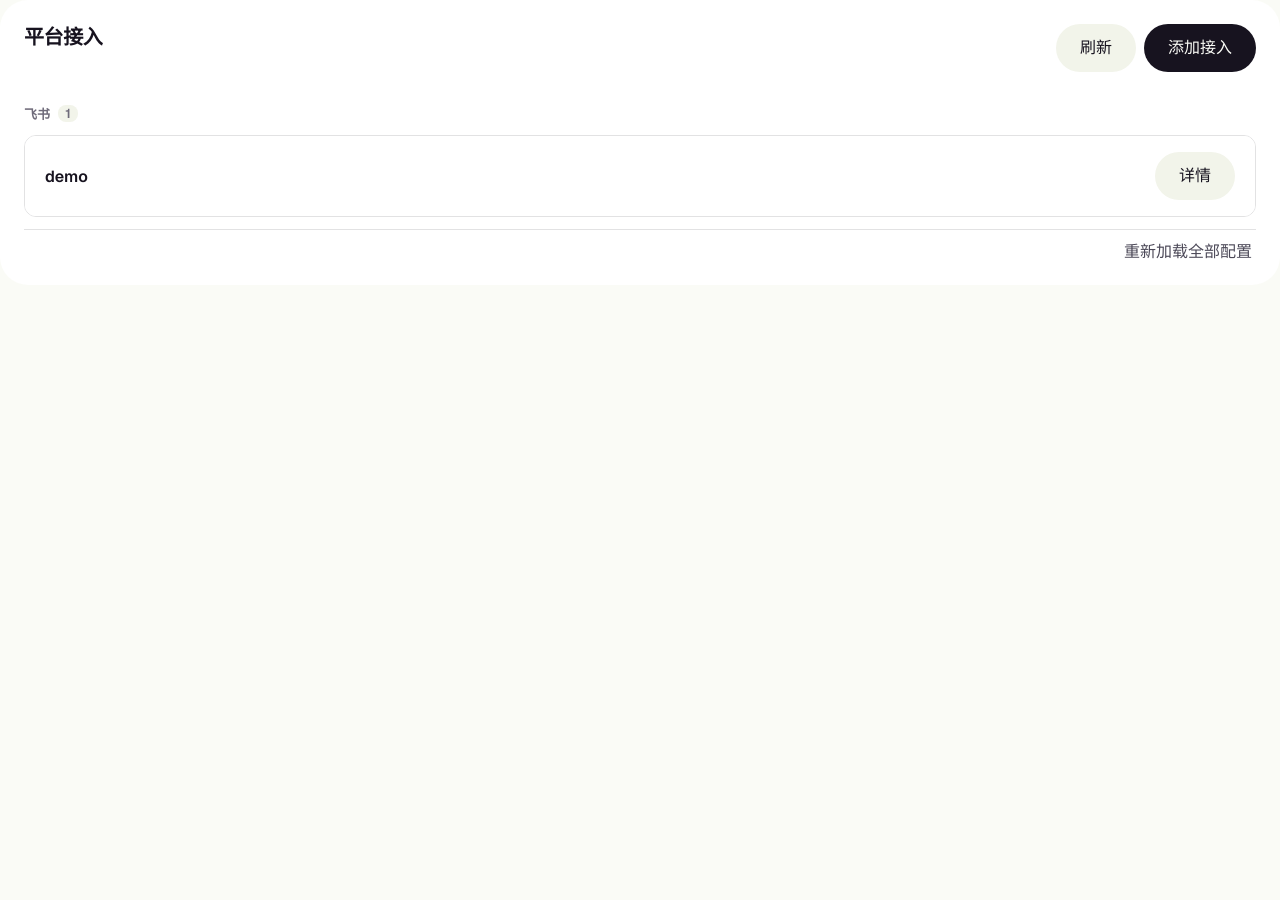
it: sends only the preview operation ID and confirms deletion from a new list read
Expected: the text "demo" is shown, [45,166,88,186]
Click the button "详情": (1195, 176) [1155,152,1235,200]
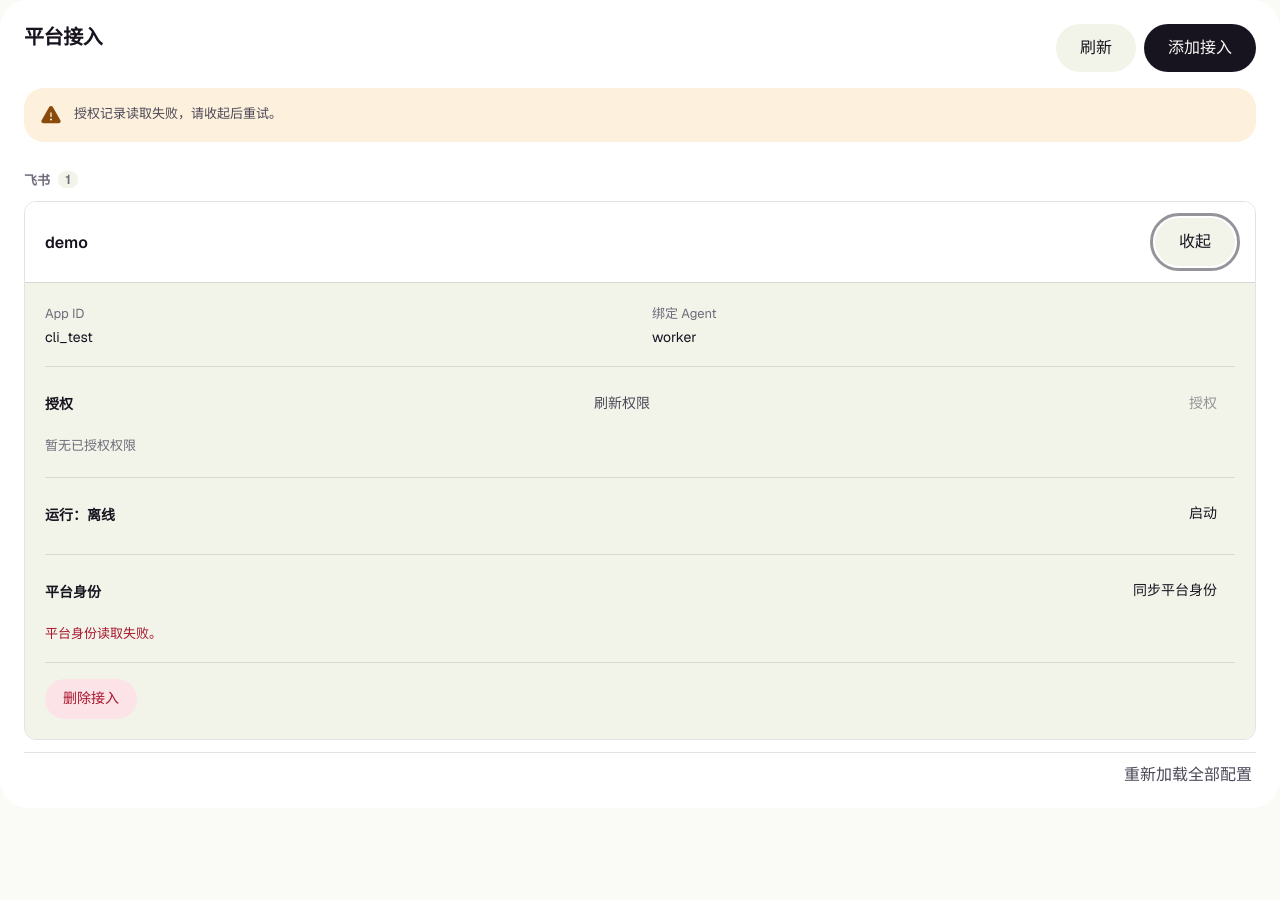
Click the button "删除接入": (91, 699) [45,679,137,719]
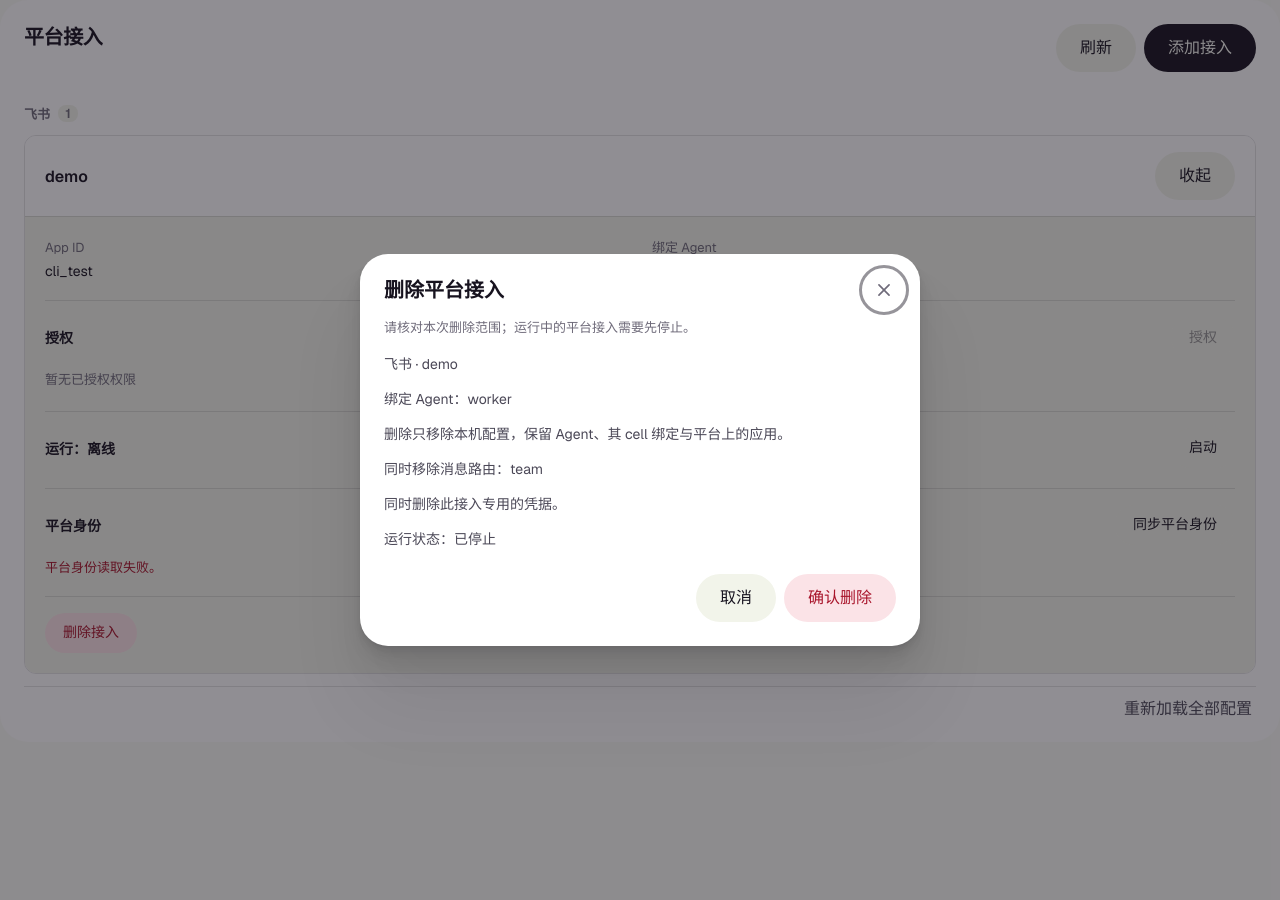
Expected: the text "绑定 Agent：worker" is shown, [384,390,512,408]
Expected: the text "同时移除消息路由：team" is shown, [384,460,543,478]
Click the button "确认删除": (840, 598) [784,574,896,622]
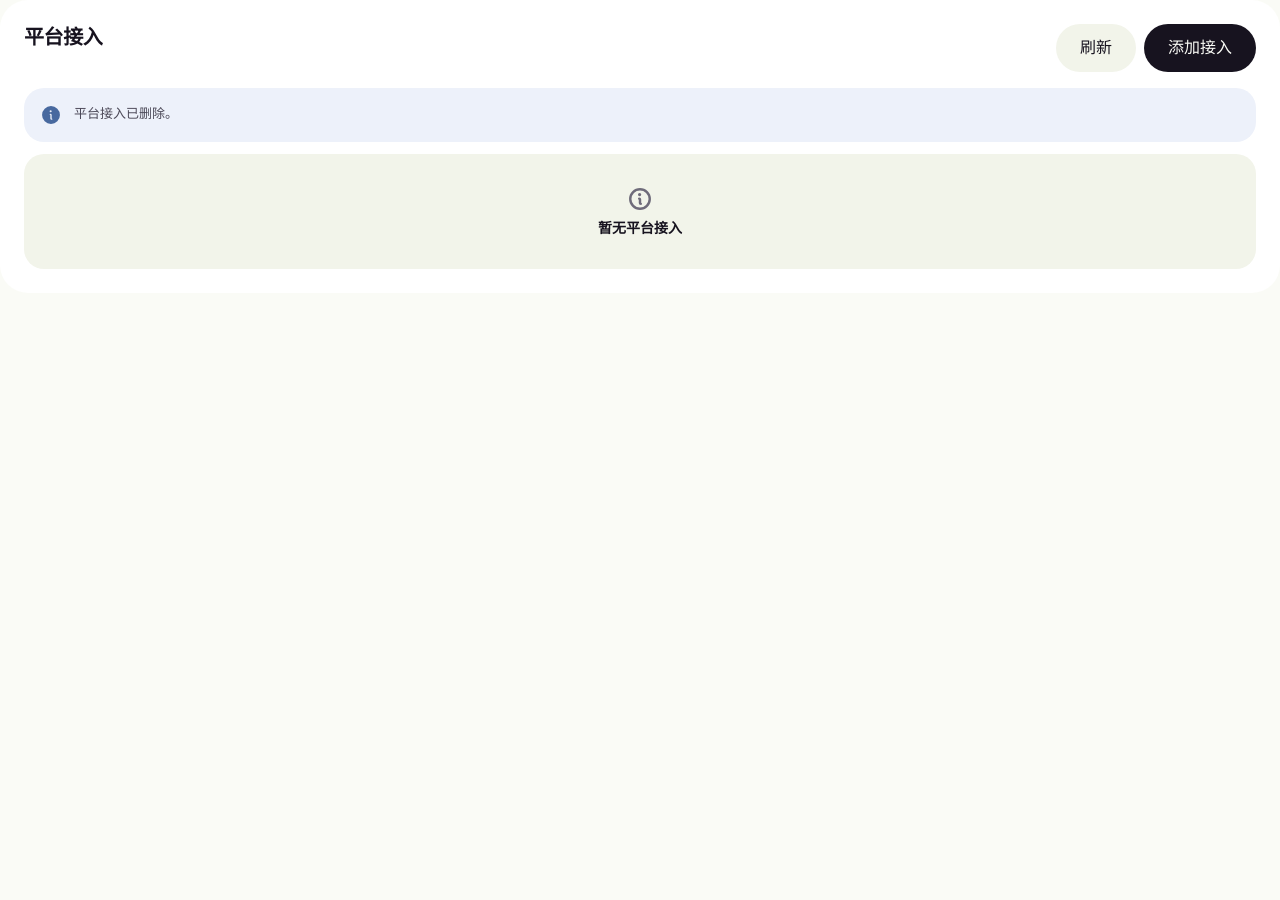
Expected: the text "暂无平台接入" is shown, [598,220,682,237]
